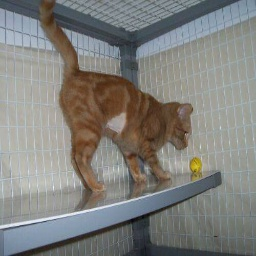cat: (35, 4, 192, 190)
